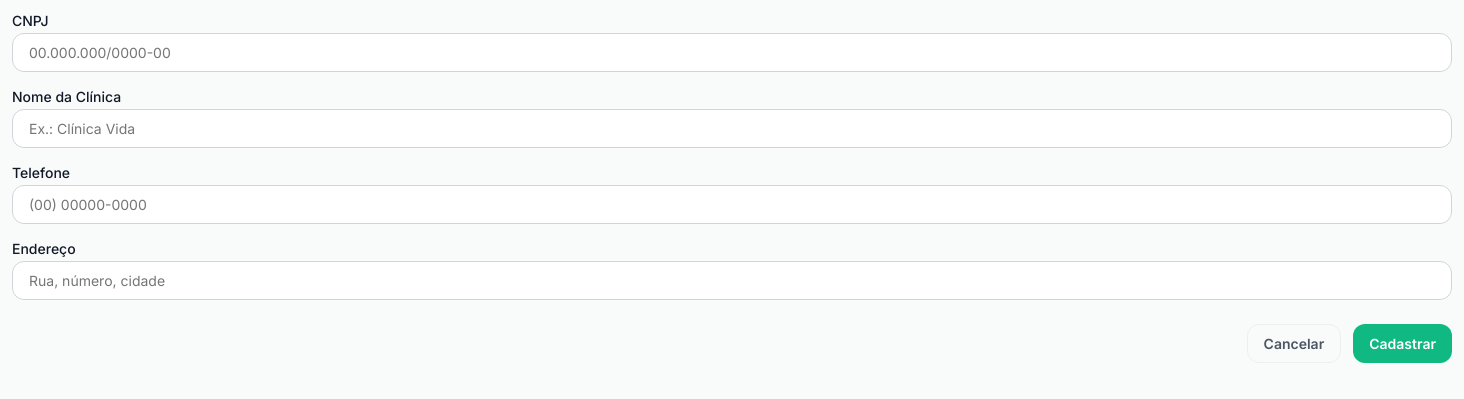
ClinicForm › mapeia erros de campo do servidor para o formulário
Type "Clínica Vida" into the field labelled "Nome da Clínica".
click(732, 128); type("Clínica Vida")  # box x1=12 y1=109 x2=1452 y2=148
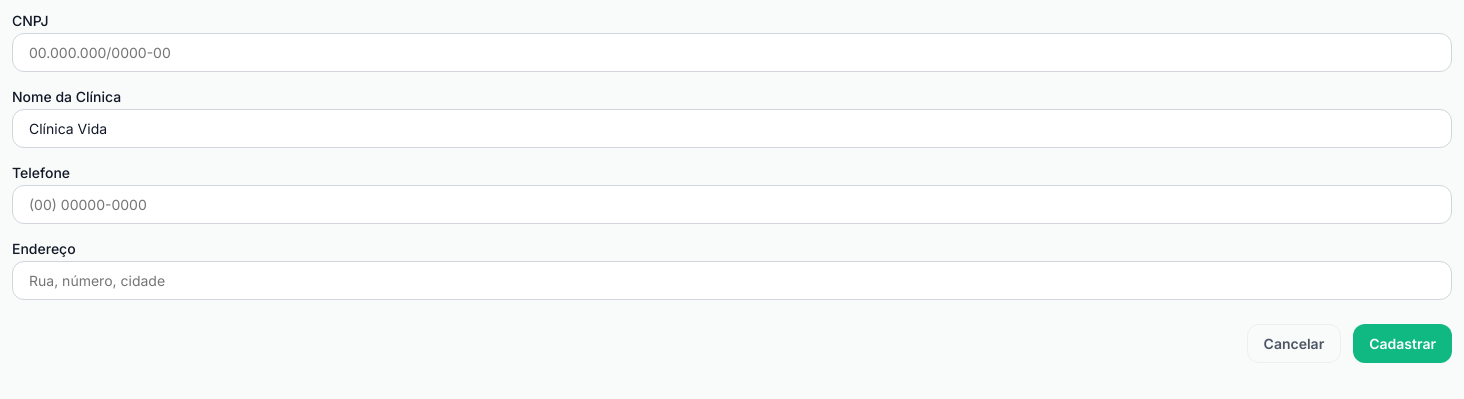
Type "11.444.777/0001-61" into the field labelled "CNPJ".
click(732, 52); type("11.444.777/0001-61")  # box x1=12 y1=33 x2=1452 y2=72
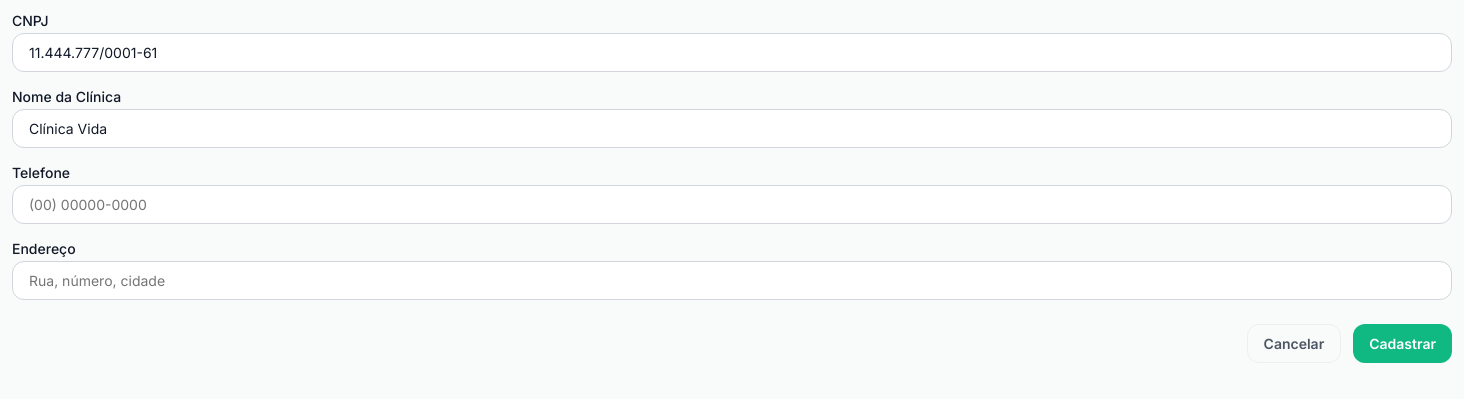
Click the button "Cadastrar".
click(1403, 344)  # box x1=1353 y1=324 x2=1452 y2=363
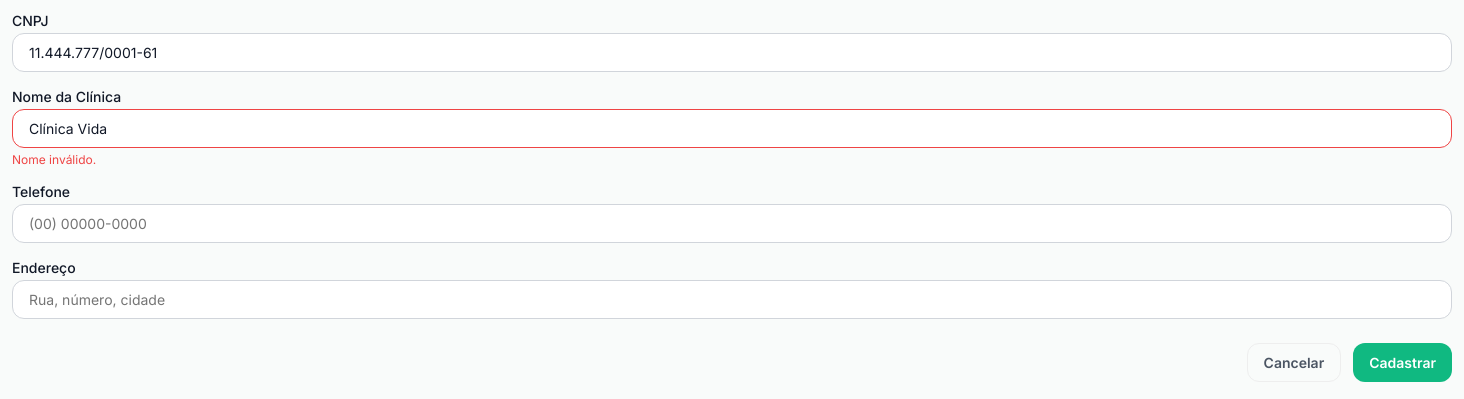
Now the text "Nome inválido." is shown, box x1=12 y1=152 x2=96 y2=167
